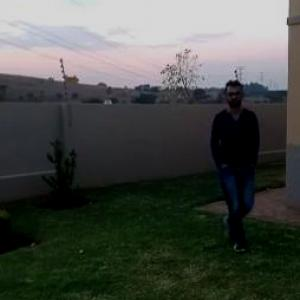follow: (209, 77, 265, 241)
